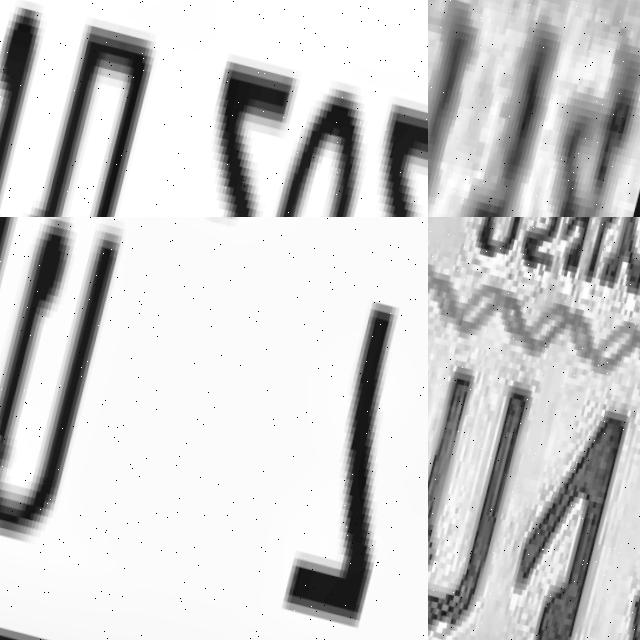license-plate: (0, 217, 428, 640), (0, 0, 428, 217), (428, 217, 640, 640), (428, 0, 640, 217)
